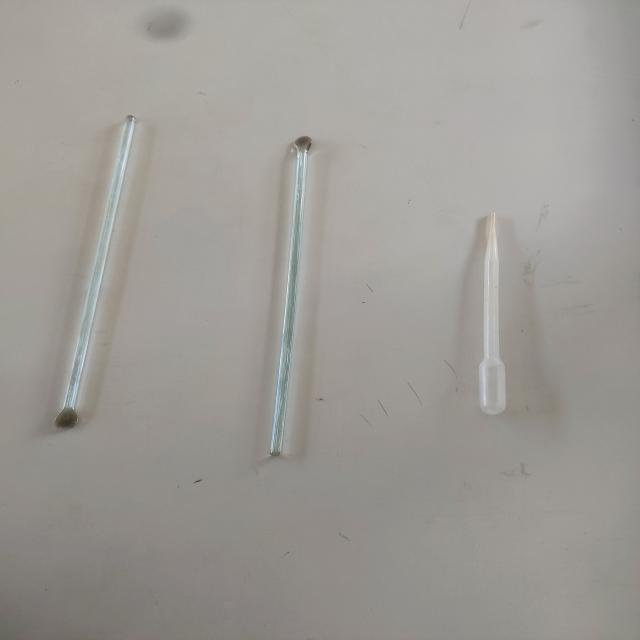Glass_Rod: (35, 85, 176, 454), (235, 106, 367, 486)
Pipette: (444, 184, 565, 433)
